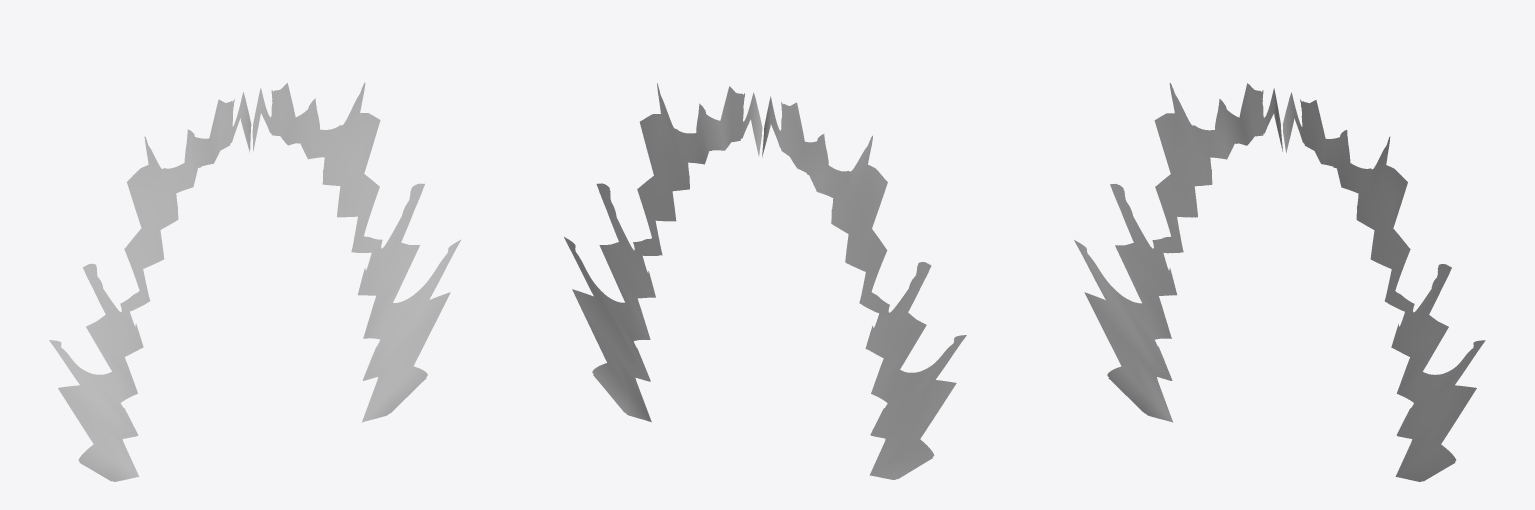
File: saiyaren_buff1.FBX
The picture shows the model from 3 angles, left to right: view 1: azimuth 30°, elevation 25°; view 2: azimuth 150°, elevation 25°; view 3: azimuth 330°, elevation 25°; orthographic projection. The views are drawn at different scales.
Visible parts, largest first — view 1: saiyaren1; view 2: saiyaren1; view 3: saiyaren1.
Part boxes in pixels (x1,y1,x2,y2): saiyaren1: (49,82,461,481); saiyaren1: (564,83,966,479); saiyaren1: (1074,83,1485,481).
Size of the model in its own units: 385 by 350 by 13.93.
